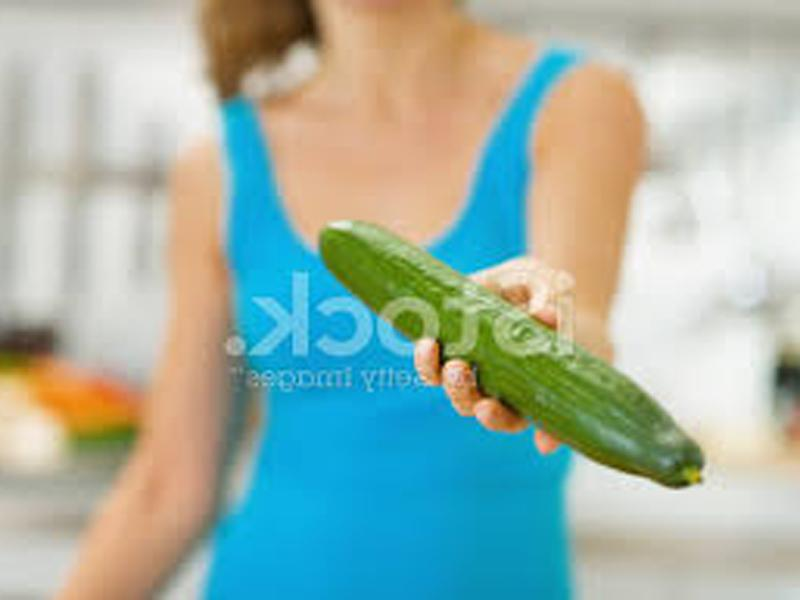Cucumber: (317, 220, 703, 490)
